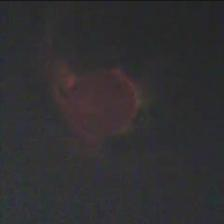fertile: (60, 63, 145, 142)
